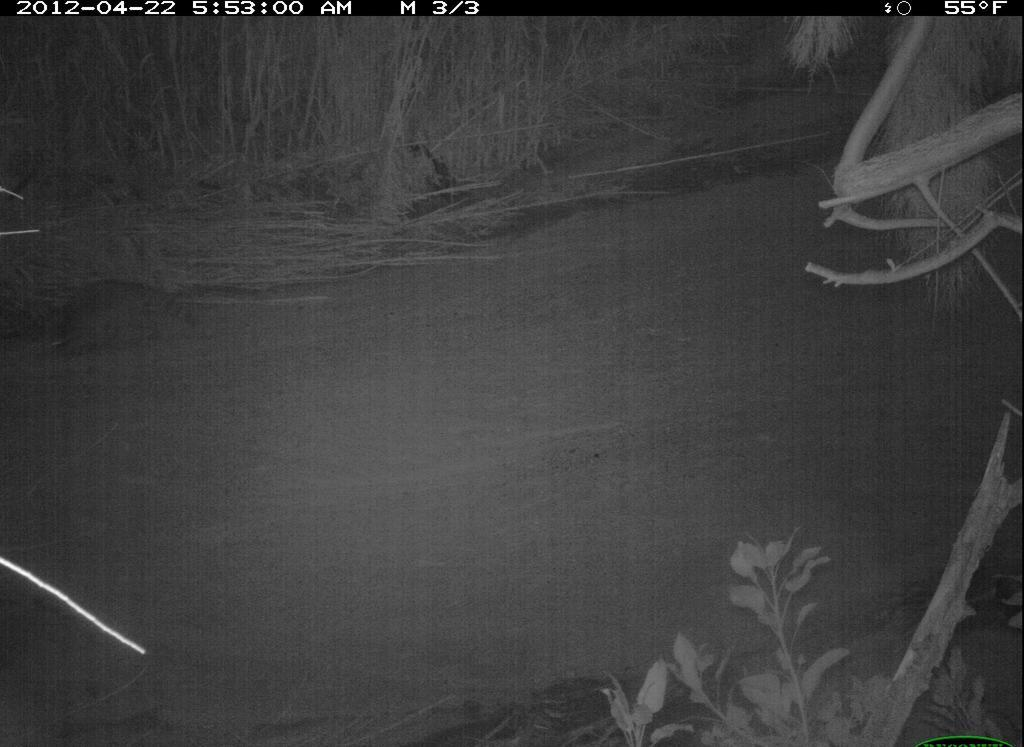raccoon: (48, 259, 227, 367)
